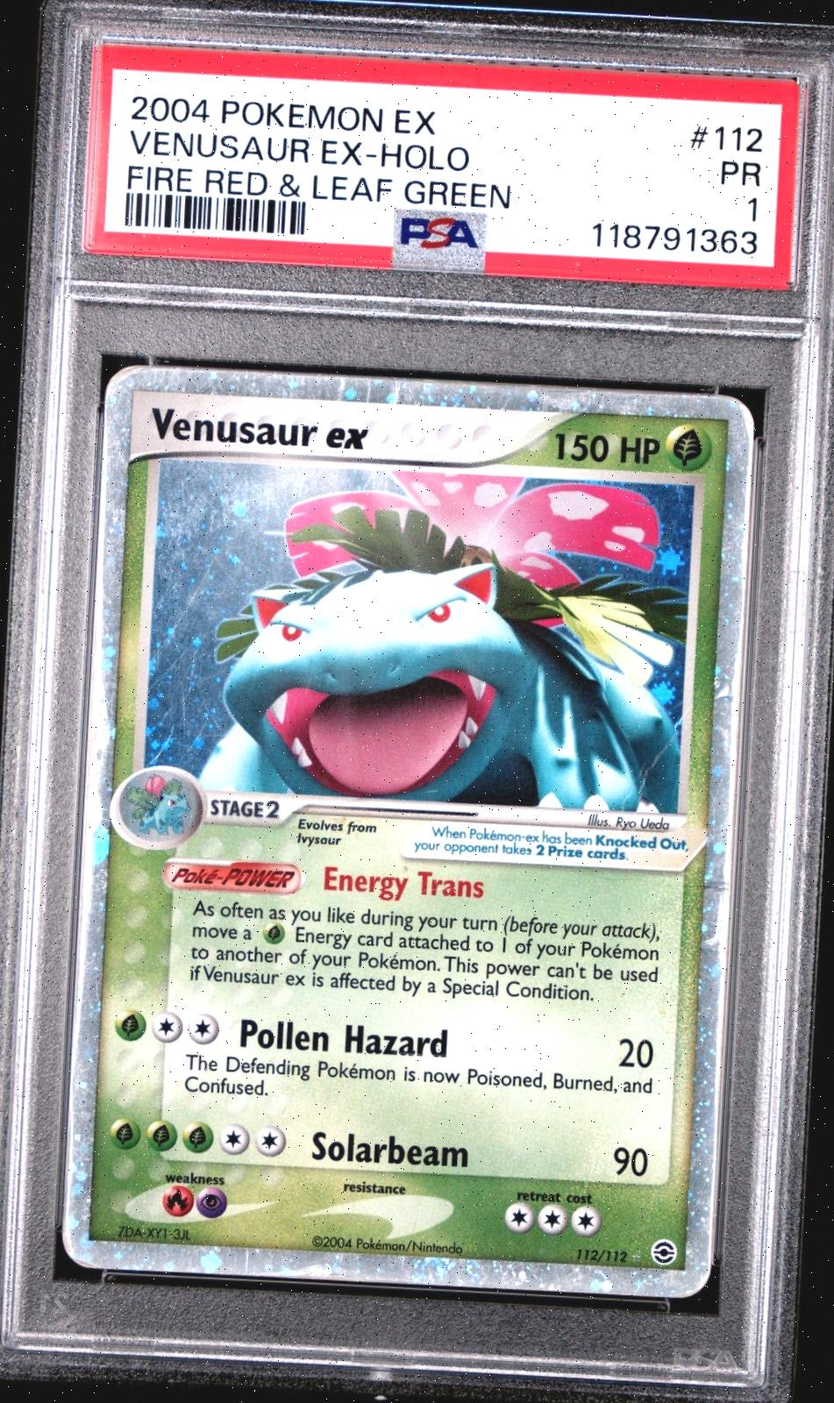card-2UtV: (61, 364, 755, 1299)
